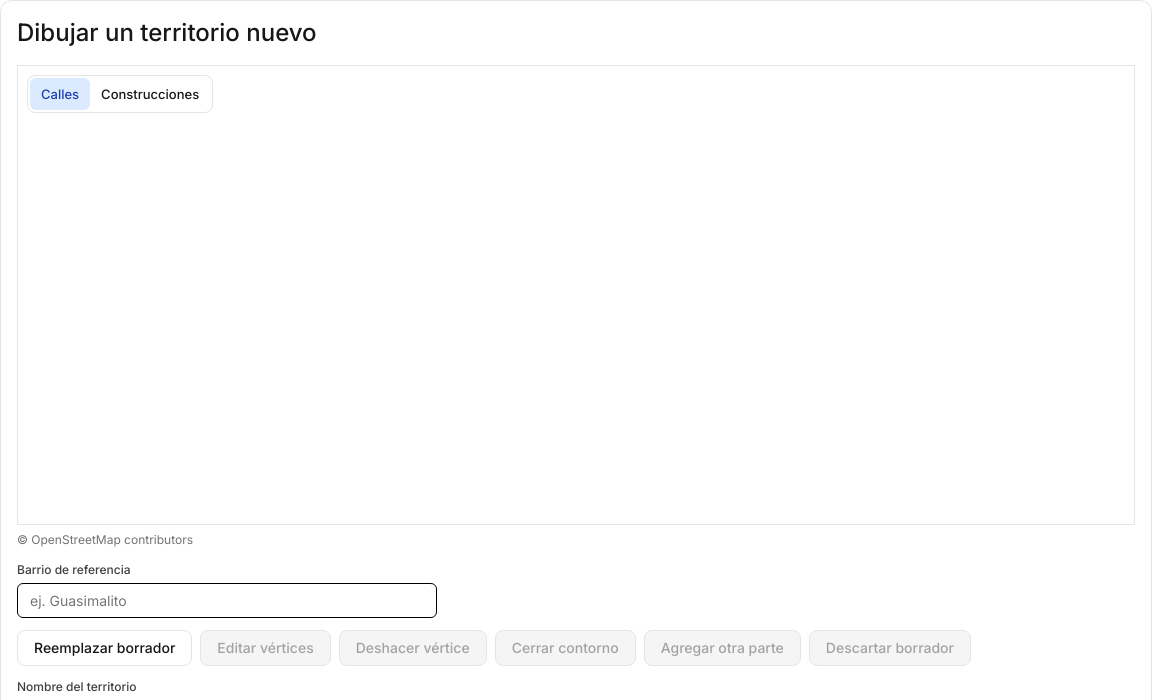
Test case: TerritoryEditor › basemap switch (2026-10-03) › remembers the choice per browser and restores it on the next map
What coordinates should you click on to do the following:
click the button "Construcciones"
I would click on:
 (150, 94)
Its box is [90, 78, 210, 110].
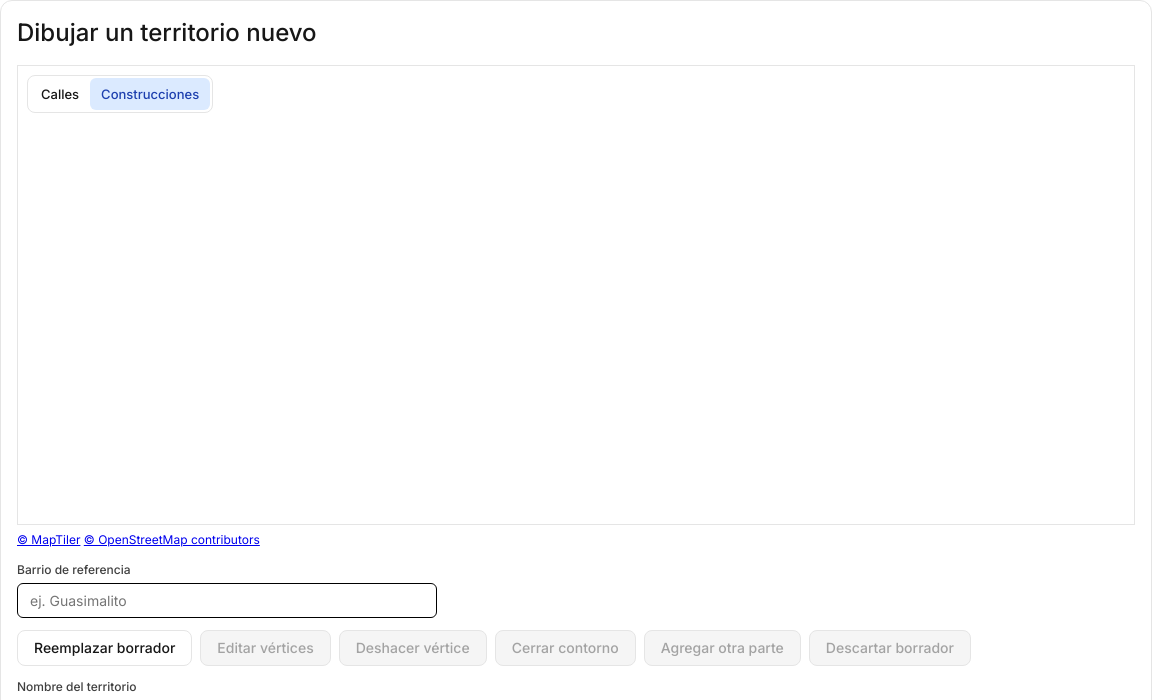
Check: the element with class "map-attribution" reads "© MapTiler © OpenStreetMap contributors", box [17, 532, 260, 547]
